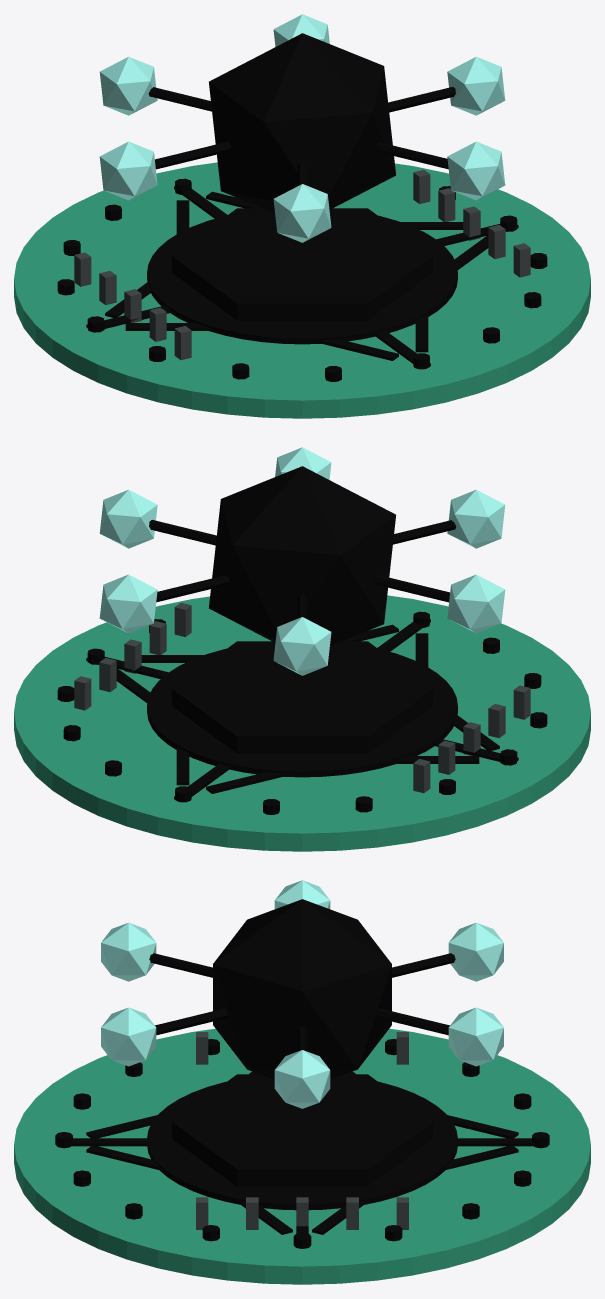
Rendered from smt.glb.
3 renders of one model, top to bottom at view 1: azimuth 30°, elevation 25°; view 2: azimuth 150°, elevation 25°; view 3: azimuth 270°, elevation 25°, orthographic.
Visible parts, largest first — view 1: mx_smt; view 2: mx_smt; view 3: mx_smt.
Boxes of the visible parts, x1,y1,x2,y2 form: mx_smt: (14,14,590,418); mx_smt: (14,447,590,851); mx_smt: (14,880,590,1284).
Bounding box in the file's own units: 2 × 1.01 × 2.
1 material, 1 textured.
